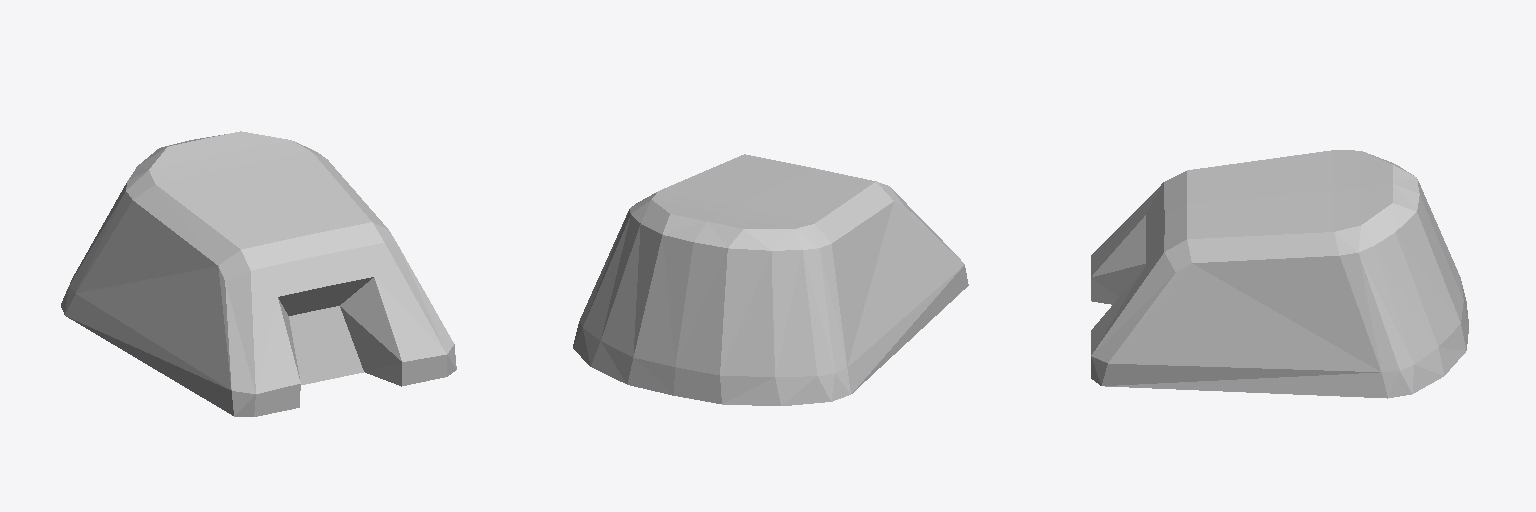
The model's file is turret1.obj.
3 renders of one model, left to right at view 1: azimuth 30°, elevation 25°; view 2: azimuth 150°, elevation 25°; view 3: azimuth 270°, elevation 25°, orthographic.
Visible parts, largest first — view 1: Tai_SupportFrigateGun; view 2: Tai_SupportFrigateGun; view 3: Tai_SupportFrigateGun.
Part boxes in pixels (bbox=[...]): Tai_SupportFrigateGun: bbox=[61, 131, 456, 416]; Tai_SupportFrigateGun: bbox=[573, 154, 968, 405]; Tai_SupportFrigateGun: bbox=[1091, 150, 1468, 398].
Size of the model in its own units: 9.24 by 4.88 by 11.05.